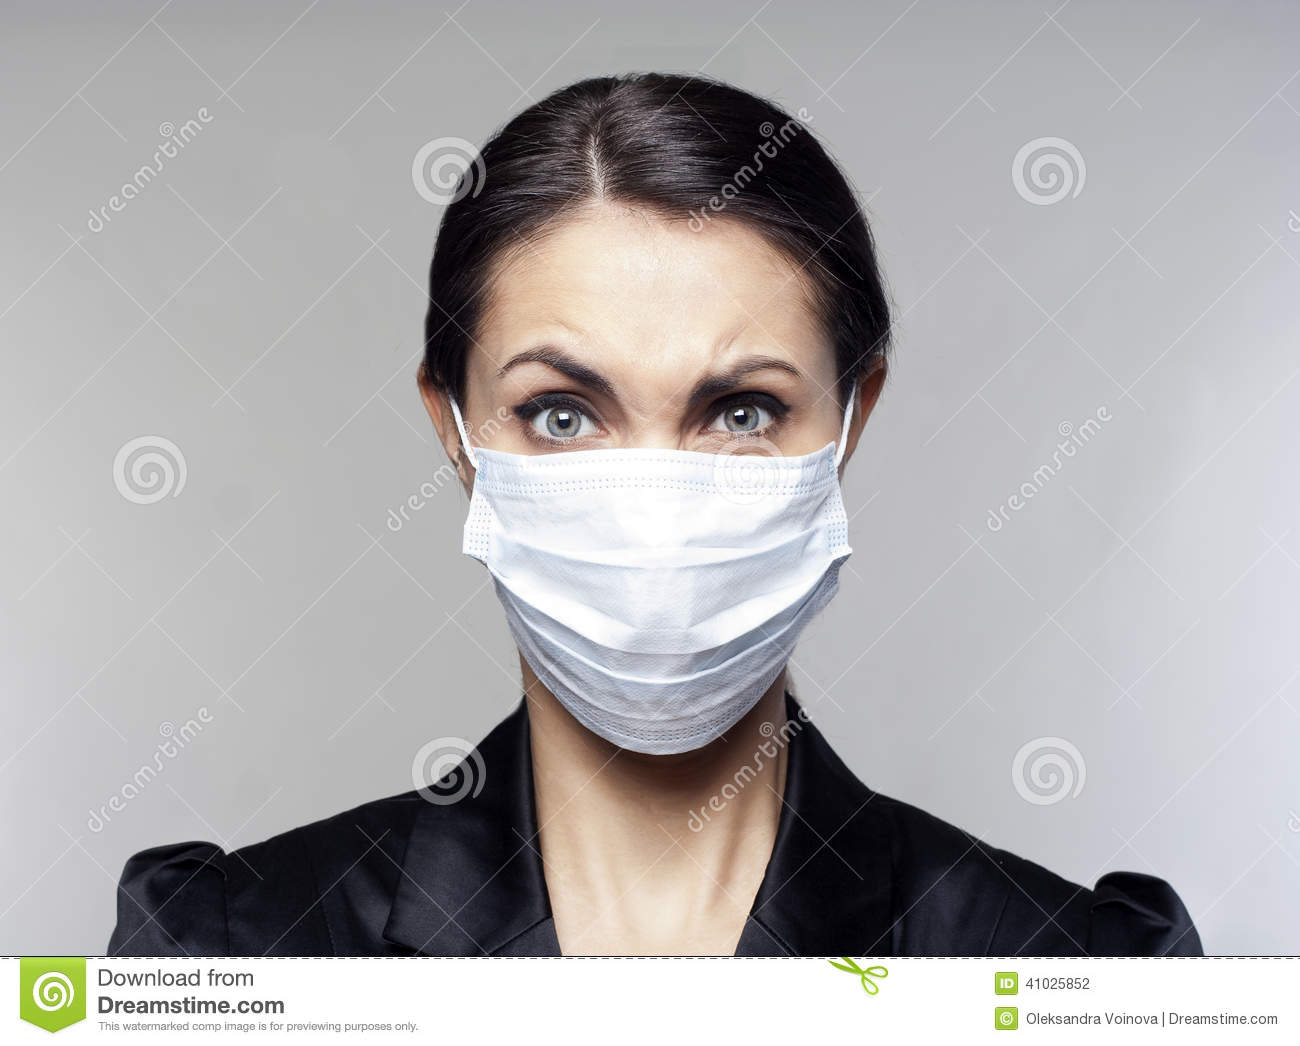mask: (461, 447, 849, 762)
